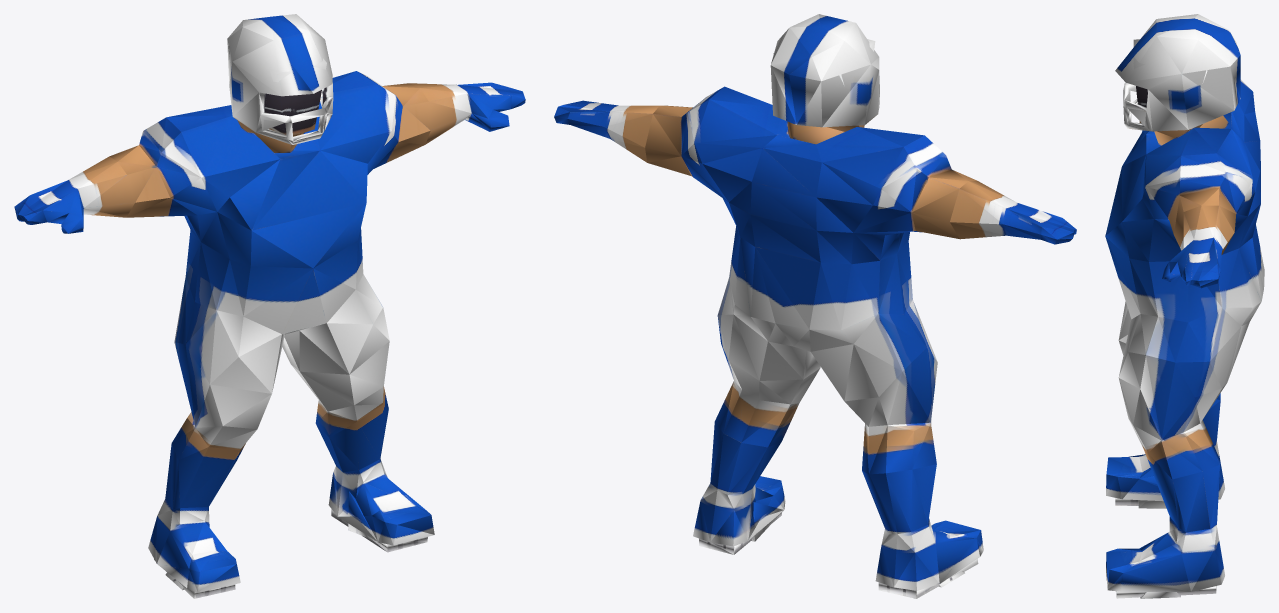
Rendered from ultra-low-poly-big-prepped.glb.
3 views of the same model, side by side, from view 1: azimuth 30°, elevation 25°; view 2: azimuth 150°, elevation 25°; view 3: azimuth 270°, elevation 25° (orthographic). The views are drawn at different scales.
Visible parts, largest first — view 1: Mesh_0; view 2: Mesh_0; view 3: Mesh_0.
Boxes of the visible parts, x1=… form: Mesh_0: x1=14, y1=14, x2=525, y2=598; Mesh_0: x1=554, y1=14, x2=1076, y2=598; Mesh_0: x1=1105, y1=14, x2=1264, y2=598.
Bounding box in the file's own units: 1.94 × 1.93 × 0.5345.
Materials: 1 (1 with a texture image).
